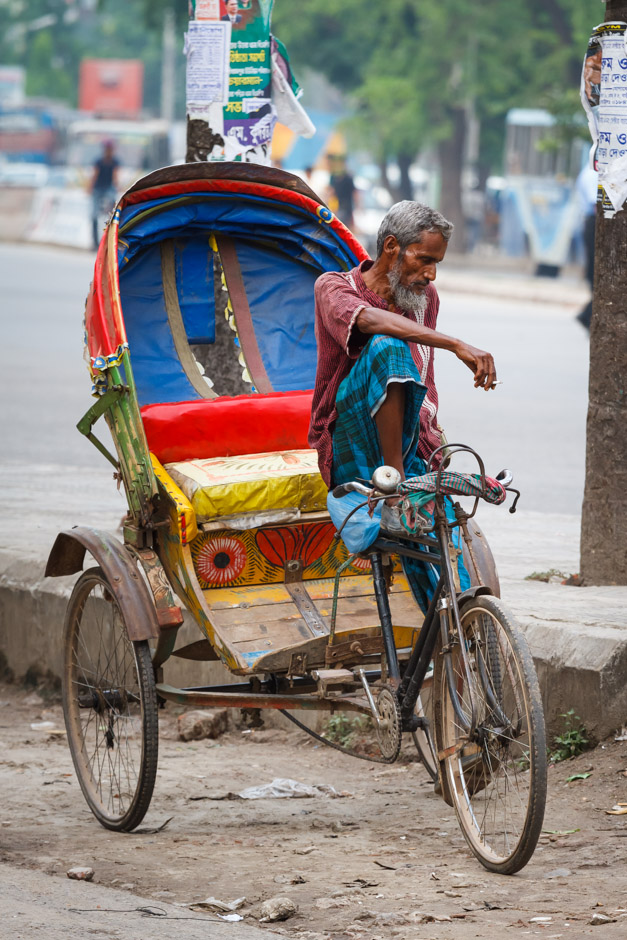Rickshaw: (61, 172, 540, 864)
